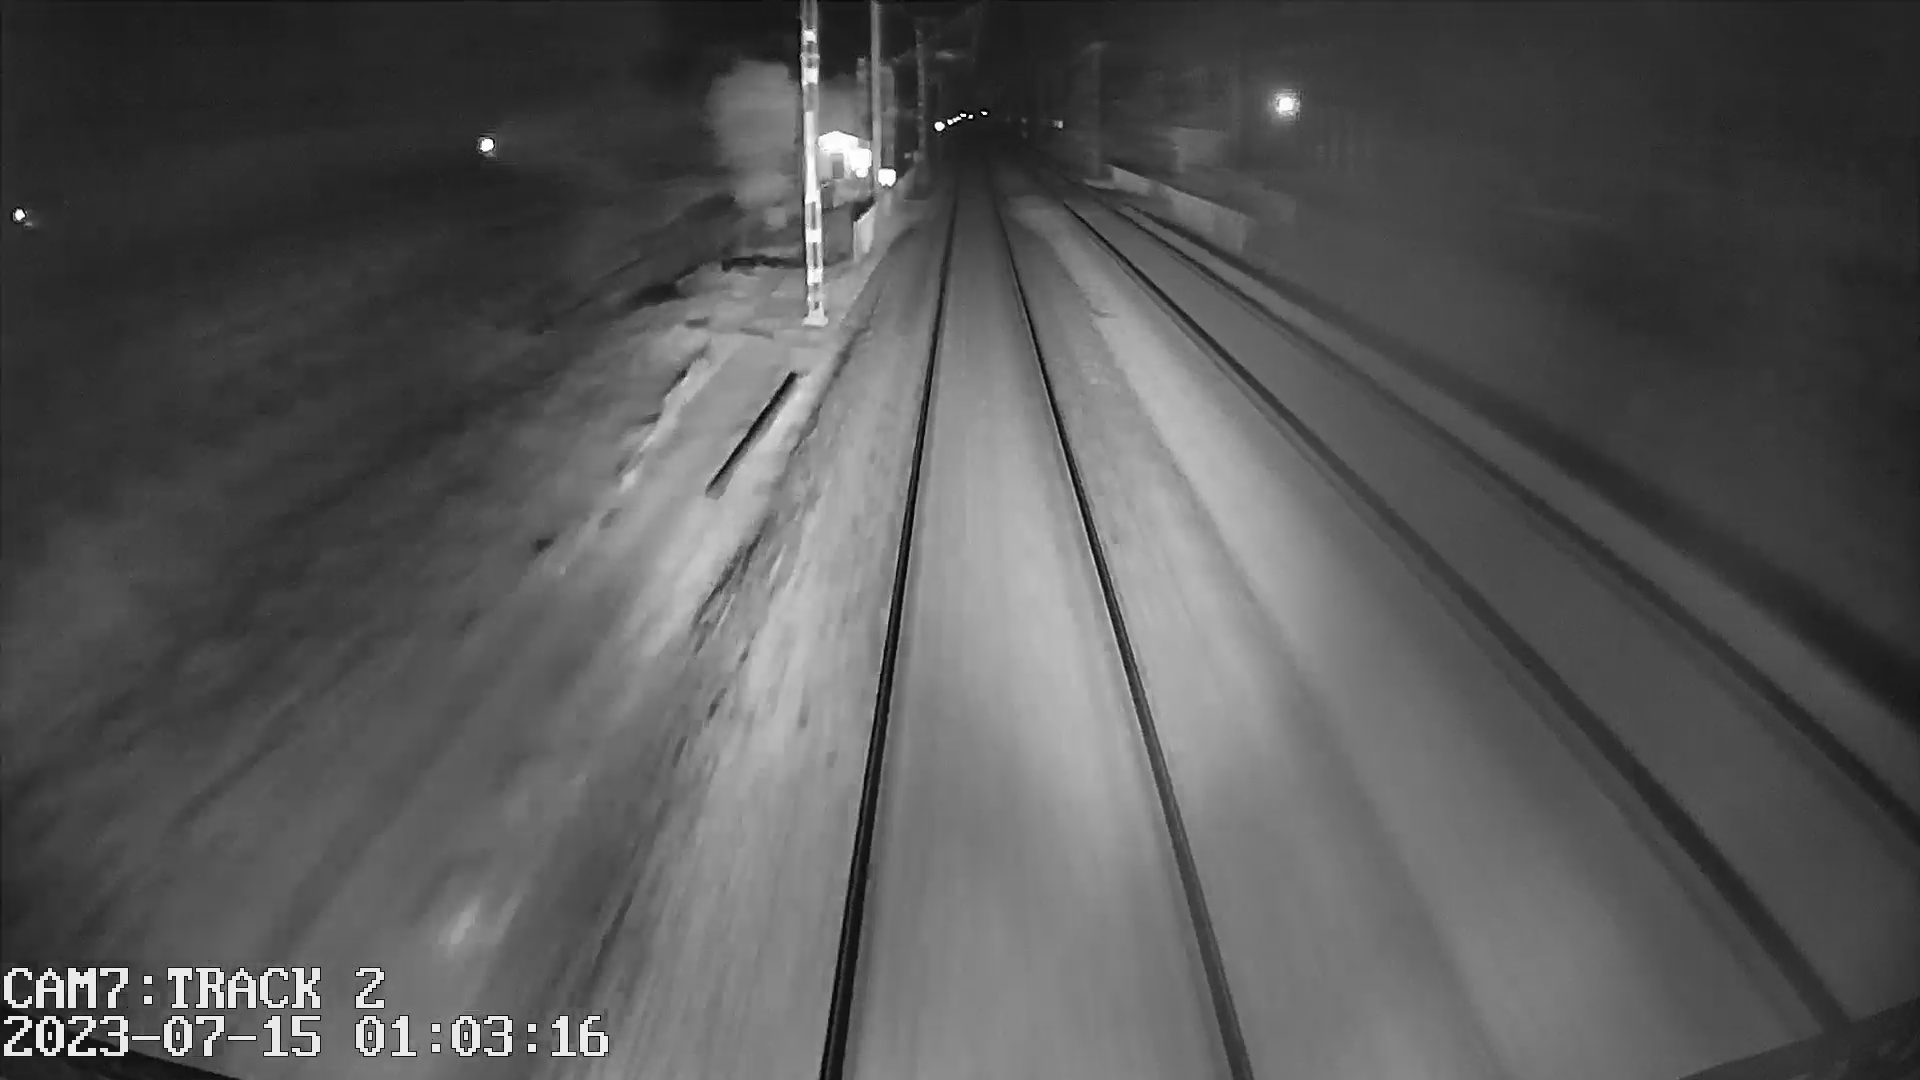track1: (829, 181, 1239, 1062)
track2: (1093, 220, 1904, 988)
